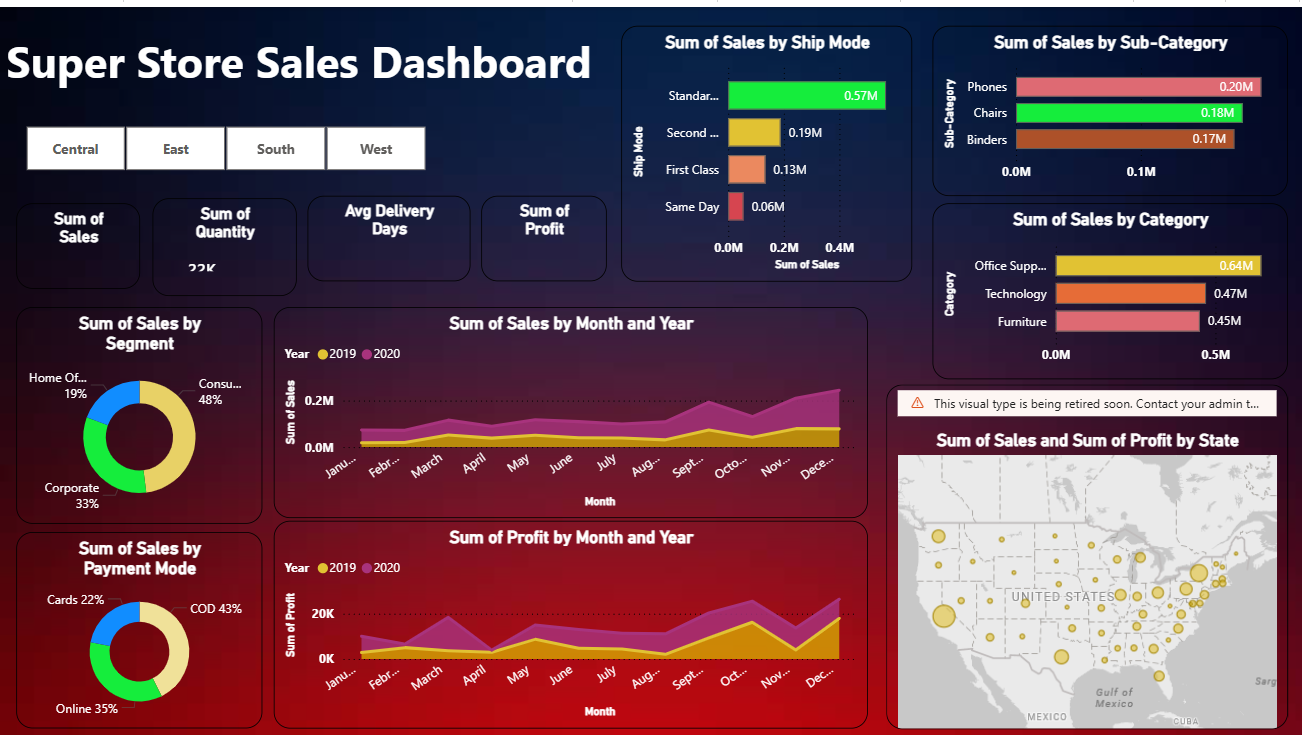

The page's visual inventory and layout, read from the dashboard file:
{"tool":"powerbi","page":{"name":"Page 1","canvas":[1280,720],"ordinal":0},"visuals":[{"type":"clusteredBarChart","fields":{"Category":["Table1.Category"],"Y":["Sum(Table1.Sales)"]},"box":[915.7,192.9,348.6,172.9],"z":0},{"type":"clusteredBarChart","fields":{"Y":["Sum(Table1.Sales)"],"Category":["Table1.Sub-Category"]},"box":[915.7,18.6,348.6,167.1],"z":1},{"type":"clusteredBarChart","fields":{"Y":["Sum(Table1.Sales)"],"Category":["Table1.Ship Mode"]},"box":[610,18.6,285.7,251.4],"z":2},{"type":"stackedAreaChart","fields":{"Category":["Table1.Order Date.Variation.Date Hierarchy.Month","Table1.Order Date.Variation.Date Hierarchy.Day"],"Y":["Sum(Table1.Sales)"],"Series":["Table1.Order Date.Variation.Date Hierarchy.Year"]},"box":[268.6,294.3,582.9,207.1],"z":3},{"type":"stackedAreaChart","fields":{"Category":["Table1.Order Date.Variation.Date Hierarchy.Month","Table1.Order Date.Variation.Date Hierarchy.Day"],"Series":["Table1.Order Date.Variation.Date Hierarchy.Year"],"Y":["Sum(Table1.Profit)"]},"box":[268.6,504.3,582.9,204.3],"z":4},{"type":"map","fields":{"Category":["Table1.State"],"Size":["Sum(Table1.Sales)"]},"box":[870,370,394.3,338.6],"z":5},{"type":"donutChart","fields":{"Category":["Table1.Segment"],"Y":["Sum(Table1.Sales)"]},"box":[15.7,294.3,241.4,212.9],"z":6},{"type":"donutChart","fields":{"Y":["Sum(Table1.Sales)"],"Category":["Table1.Payment Mode"]},"box":[15.7,515.7,241.4,192.9],"z":8},{"type":"slicer","fields":{"Values":["Table1.Region"]},"box":[0,110,441.2,56.2],"z":9},{"type":"textbox","box":[1.2,18.8,638.8,73.8],"z":10},{"type":"cardVisual","title":"Sum of Sales","fields":{"Data":["Sum(Table1.Sales)"]},"box":[15.7,192.9,121.4,84.3],"z":11},{"type":"cardVisual","title":"Sum of Quantity","fields":{"Data":["Sum(Table1.Quantity)"]},"box":[150,187.1,141.4,95.7],"z":12},{"type":"cardVisual","title":"Avg Delivery Days","fields":{"Data":["Avg(Table1.Average Delivery)"]},"box":[301.4,185.7,160,84.3],"z":13},{"type":"cardVisual","title":"Sum of Profit","fields":{"Data":["Sum(Table1.Profit)"]},"box":[472.9,185.7,122.9,84.3],"z":14}]}

Visuals, with their boxes in screenshot pixels (x1, y1, x2, y2), scaled from the page's 1280x720 canvas onto the 1302x735 screenshot:
clusteredBarChart - Table1.Category x Sum(Table1.Sales): rect(931, 197, 1286, 373)
clusteredBarChart - Sum(Table1.Sales) x Table1.Sub-Category: rect(931, 19, 1286, 190)
clusteredBarChart - Sum(Table1.Sales) x Table1.Ship Mode: rect(620, 19, 911, 276)
stackedAreaChart - Table1.Order Date.Variation.Date Hierarchy.Month x Table1.Order Date.Variation.Date Hierarchy.Day: rect(273, 300, 866, 512)
stackedAreaChart - Table1.Order Date.Variation.Date Hierarchy.Month x Table1.Order Date.Variation.Date Hierarchy.Day: rect(273, 515, 866, 723)
map - Table1.State x Sum(Table1.Sales): rect(885, 378, 1286, 723)
donutChart - Table1.Segment x Sum(Table1.Sales): rect(16, 300, 262, 518)
donutChart - Sum(Table1.Sales) x Table1.Payment Mode: rect(16, 526, 262, 723)
slicer - Table1.Region: rect(0, 112, 449, 170)
textbox: rect(1, 19, 651, 95)
"Sum of Sales" cardVisual: rect(16, 197, 139, 283)
"Sum of Quantity" cardVisual: rect(153, 191, 296, 289)
"Avg Delivery Days" cardVisual: rect(307, 190, 469, 276)
"Sum of Profit" cardVisual: rect(481, 190, 606, 276)
